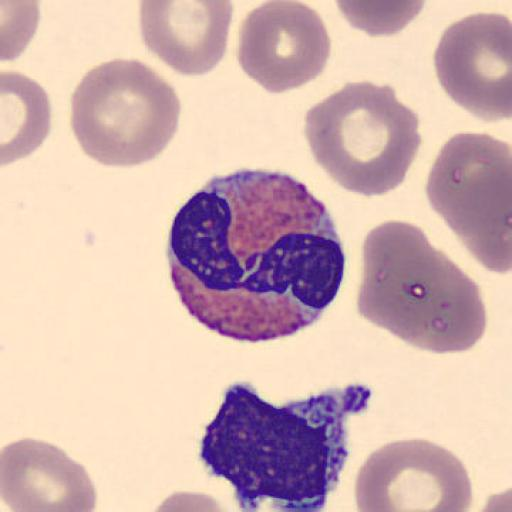Platelet: (194, 383, 354, 512)
RBC: (355, 221, 487, 356), (302, 78, 423, 198), (68, 55, 182, 169), (425, 130, 512, 274), (235, 0, 332, 95), (432, 10, 512, 124), (354, 436, 474, 512), (137, 0, 234, 78), (2, 436, 98, 512), (2, 69, 52, 167), (332, 0, 430, 38), (1, 0, 42, 65), (144, 488, 242, 512), (475, 484, 512, 512)
WBC: (164, 167, 348, 344), (196, 384, 352, 510)
